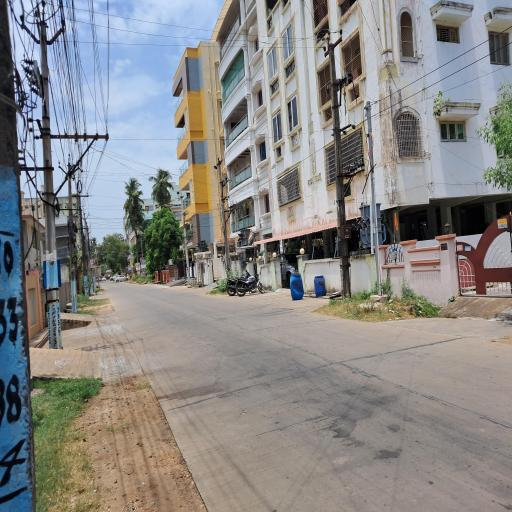building: (219, 28, 498, 298), (160, 40, 216, 272), (24, 189, 96, 323)
electric_pole: (314, 26, 357, 304), (28, 11, 62, 359), (66, 113, 108, 311)
